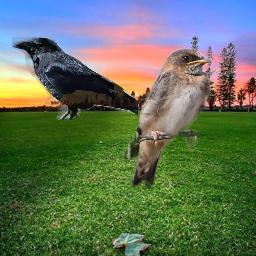Crow: (12, 37, 138, 120)
Swallow: (122, 47, 212, 189)
